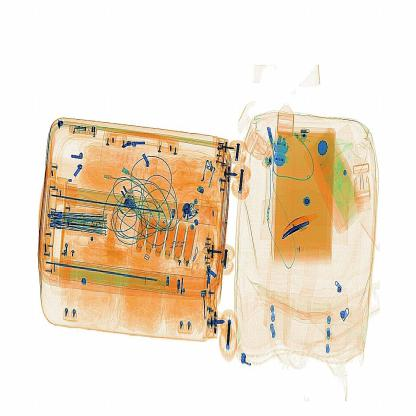pliers: (284, 216, 320, 242)
